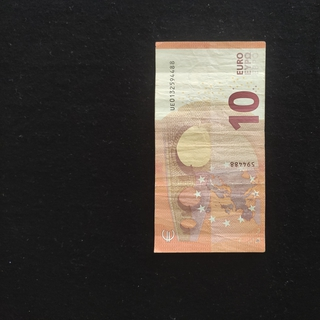10EUROBack: (152, 40, 265, 252)
